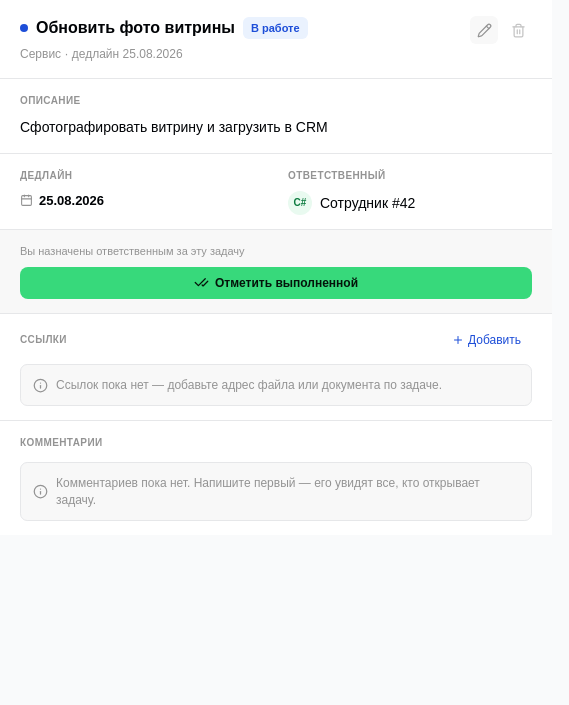
TaskStatusControl › редактирование задачи (edit-task) › renders the edit button for a non-terminal status and switches the card into editing mode with current task values
This screenshot has width=569, height=705.
expect the heading "Обновить фото витрины" is shown: met, box [36,16,235,40]
Click the button named "Редактировать задачу" at [484, 30], box [470,16,498,44]
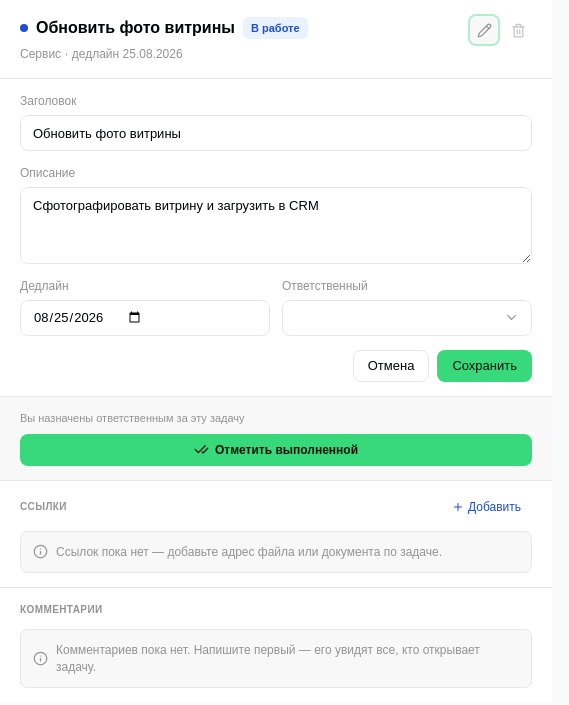
expect the field labelled "Заголовок" holds "Обновить фото витрины": met, box [20,115,532,151]
expect the text box labelled "Описание" holds "Сфотографировать витрину и загрузить в CRM": met, box [20,187,532,264]
expect the date field labelled "Дедлайн" holds "2026-08-25": met, box [20,300,270,336]
